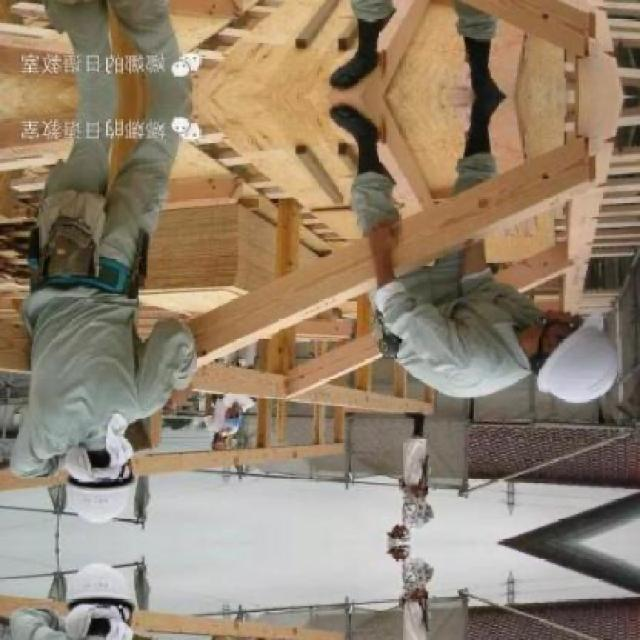con casco: (0, 370, 174, 555), (469, 268, 640, 424)
